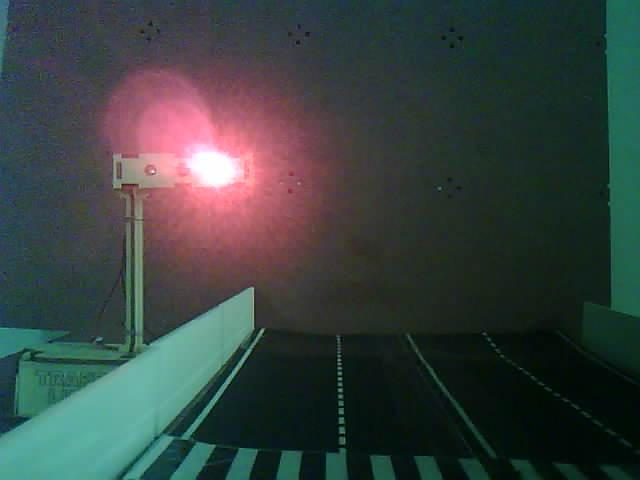crosswalk: (106, 409, 640, 480)
red: (66, 64, 364, 382)
